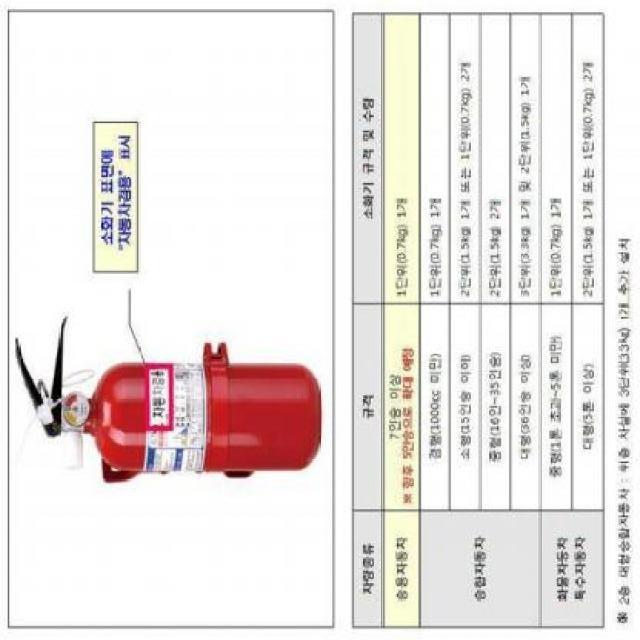fire extinguisher: (15, 317, 322, 485)
